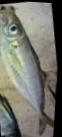fish: (0, 4, 56, 134)
